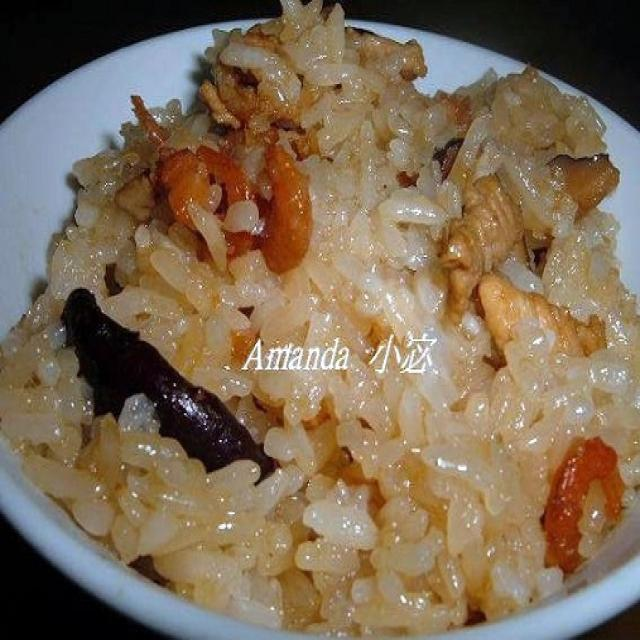米饭主食: (25, 25, 630, 627)
